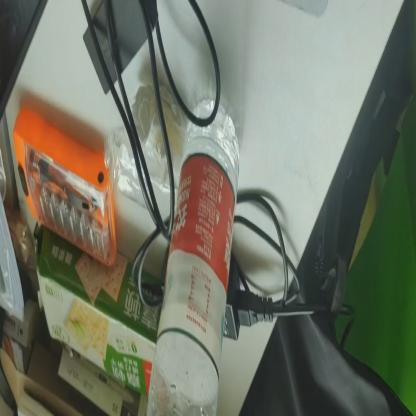Glass Bottle: (146, 94, 241, 416)
